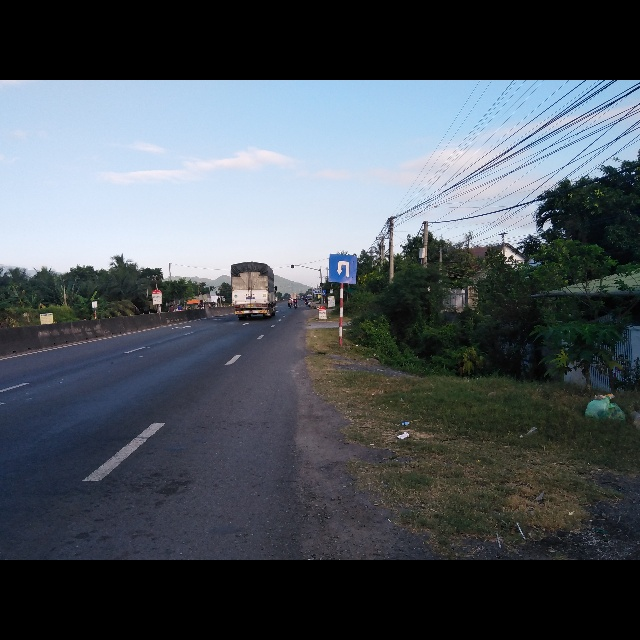Khu vực quay đầu xe: (328, 253, 357, 285)
